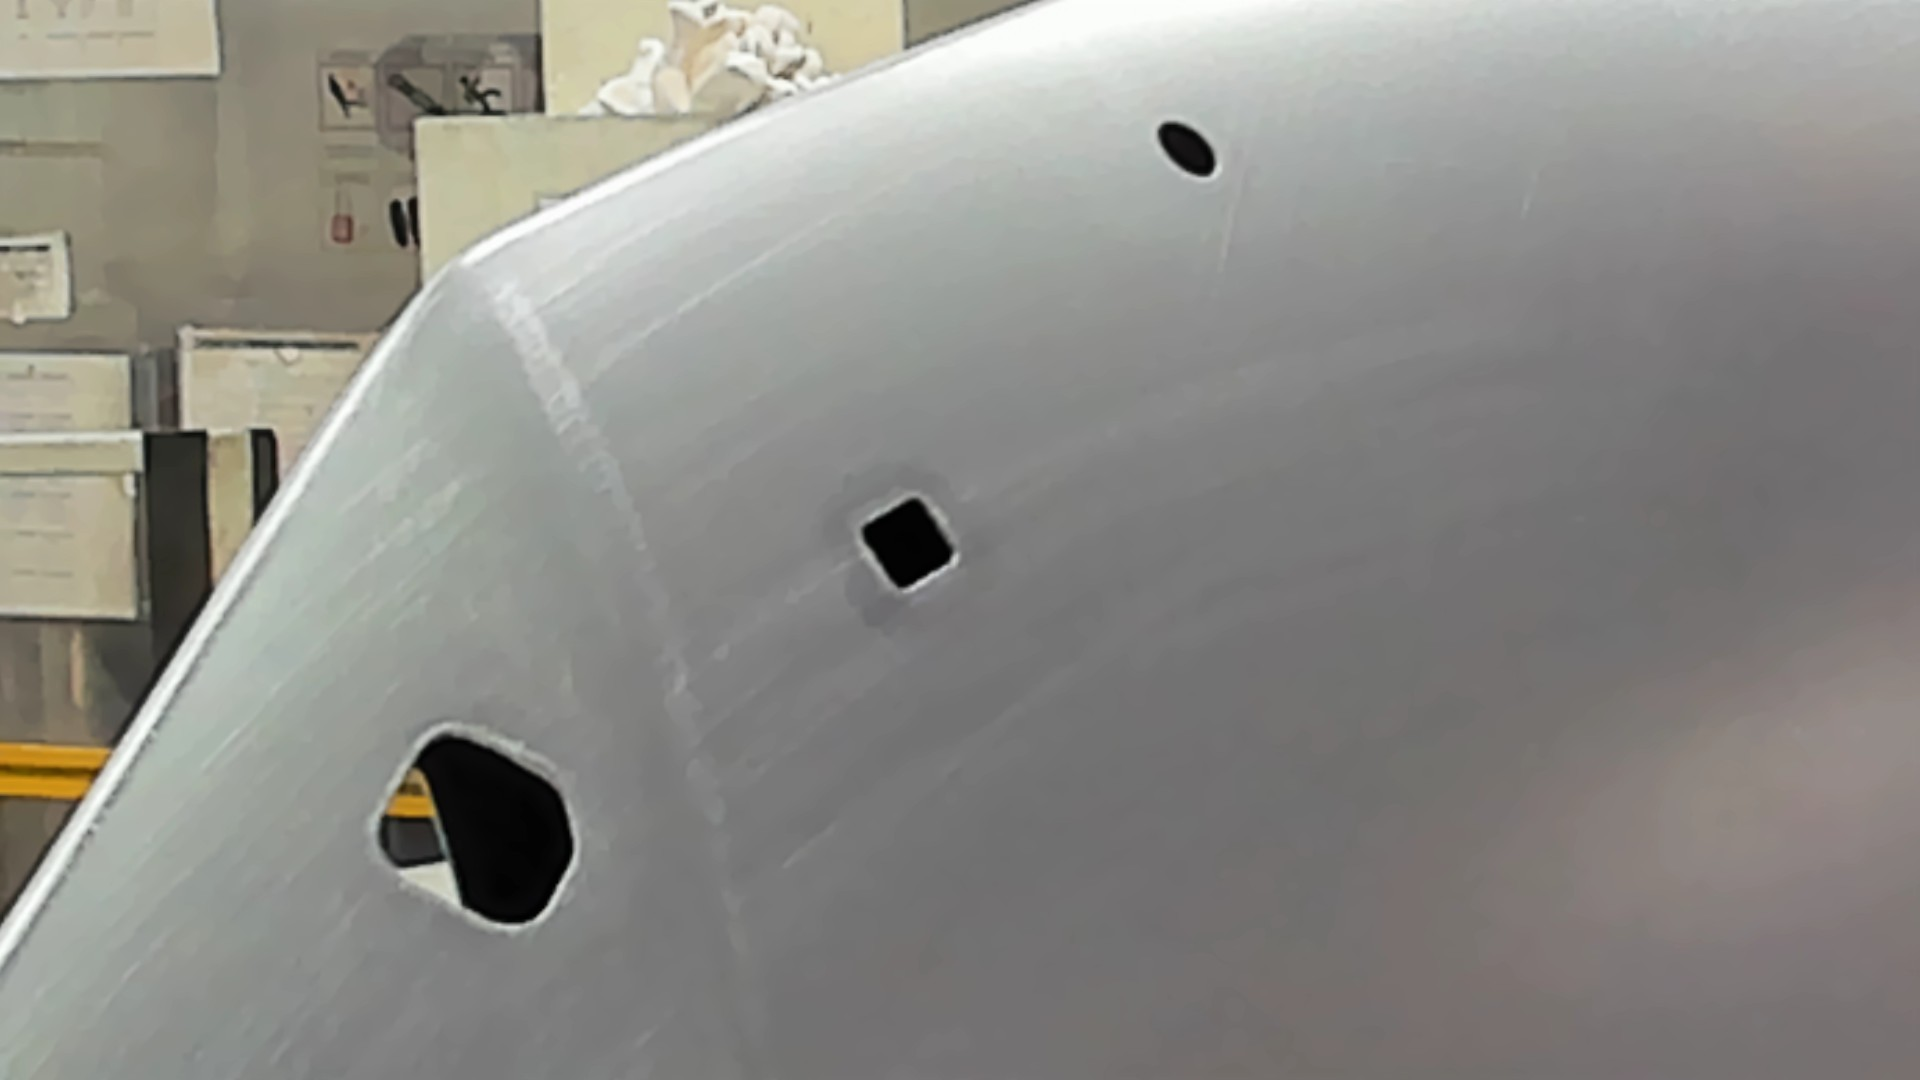capo: (965, 189, 1920, 1080)
chico: (1151, 117, 1221, 185)
grande: (363, 717, 578, 936)
mediano: (848, 491, 964, 601)
